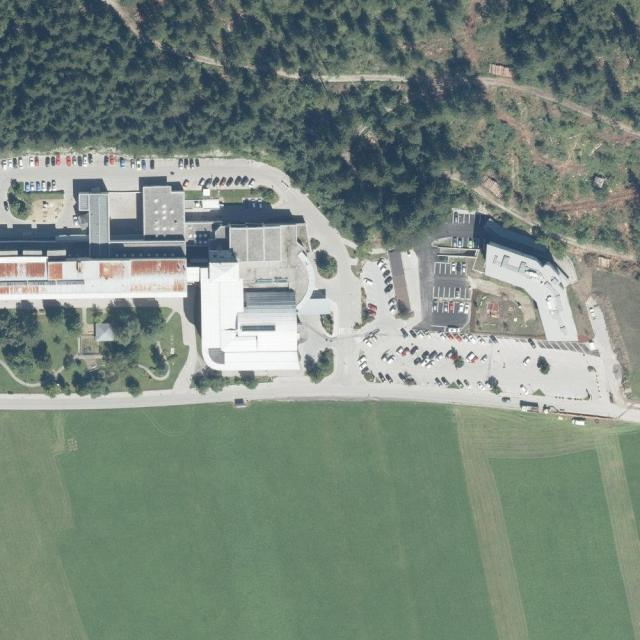building: (460, 206, 606, 354), (200, 261, 299, 372), (142, 185, 186, 236), (78, 192, 110, 256), (229, 226, 282, 261)
dryland: (569, 258, 640, 398), (468, 271, 545, 337)
greenland: (195, 65, 434, 234), (346, 171, 475, 258), (421, 37, 496, 127), (379, 103, 457, 180), (184, 61, 232, 149), (398, 65, 446, 121)
metalled_road: (335, 248, 361, 385), (566, 395, 640, 422)
unmetalled_road: (477, 69, 596, 119), (472, 182, 537, 231), (561, 235, 637, 268), (319, 74, 408, 83), (192, 54, 224, 67), (275, 68, 301, 82)
